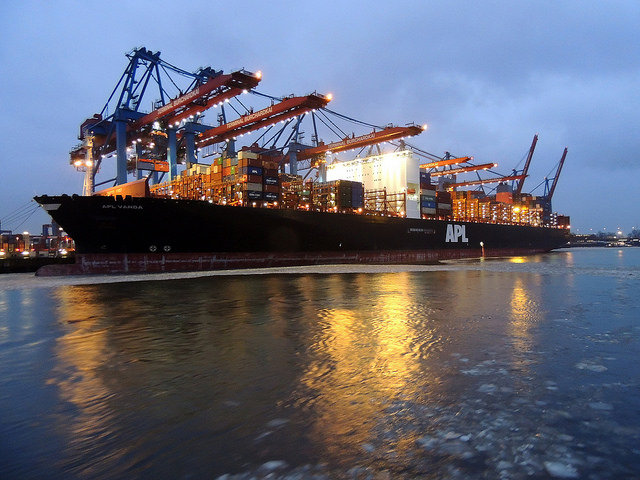container_ship: (32, 140, 565, 273)
